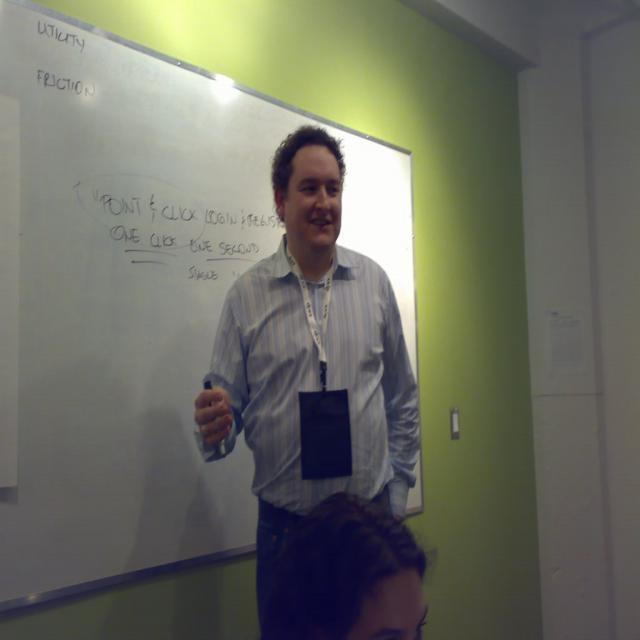Whiteboard: (0, 0, 422, 612)
